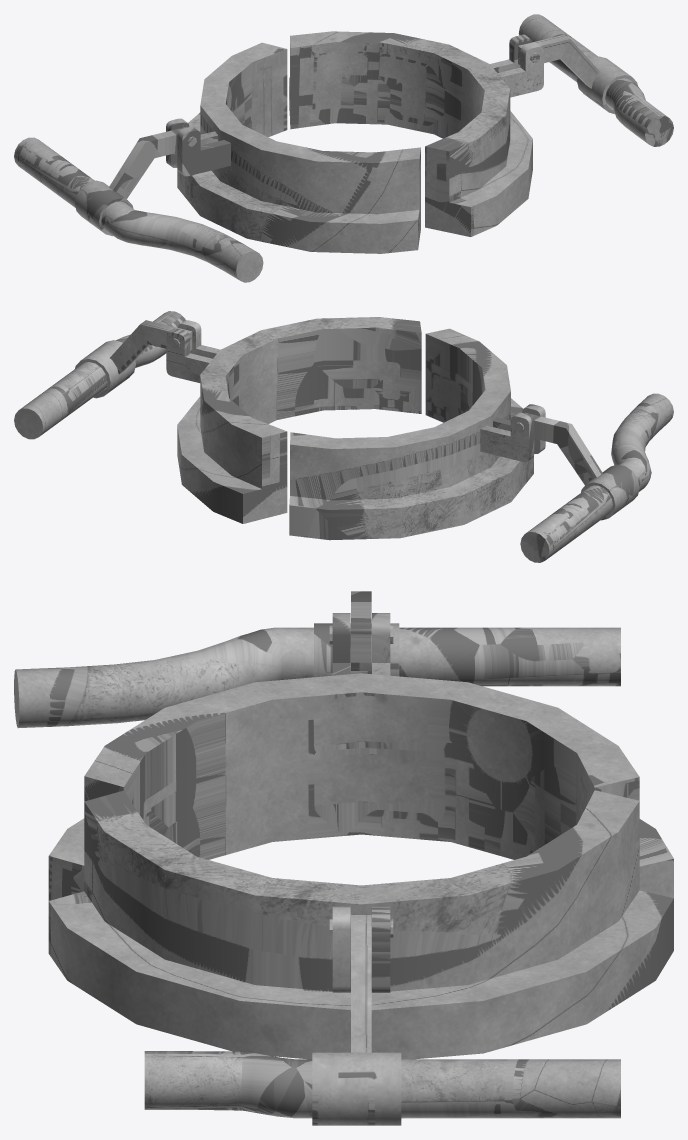
File: belaya_.fbx
3 views of the same model, one above another, from view 1: azimuth 30°, elevation 25°; view 2: azimuth 150°, elevation 25°; view 3: azimuth 270°, elevation 25° (orthographic). The views are drawn at different scales.
Parts seen in each view (by area): view 1: belaya, Object003; view 2: belaya, Object003; view 3: Object003, belaya.
Boxes of the visible parts, x1=… form: belaya: x1=14, y1=42, x2=420, y2=282; Object003: x1=289, y1=14, x2=673, y2=236; belaya: x1=289, y1=328, x2=673, y2=562; Object003: x1=14, y1=311, x2=421, y2=523; Object003: x1=48, y1=790, x2=673, y2=1125; belaya: x1=14, y1=591, x2=673, y2=900.
Size of the model in its own units: 223 by 37.41 by 134.
